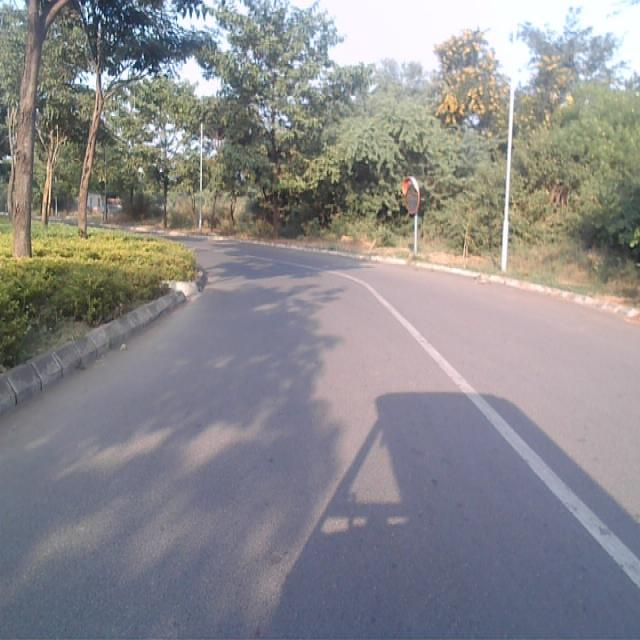lane: (0, 253, 640, 640)
